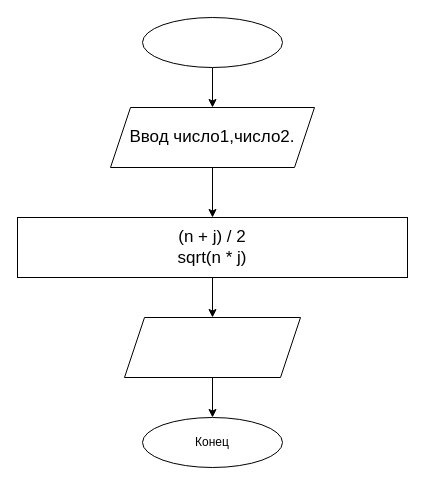
Some shapes in this 425 by 485 pixel diagram are drawn without their labels. The shapes that lost their labels are listed below. From the top down, each one's box as (x1, y1, x2, y2) in pixels, then its label:
(142, 16, 282, 68): Начало
(124, 316, 300, 378): Вывод 1,2.
